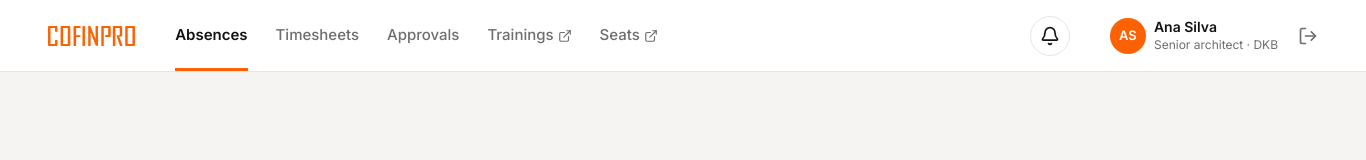
Scenario: AppHeader › says so when logging out fails, and stays
What coordinates should you click on to do the following:
click the button named "Log out"
I would click on:
 (1308, 36)
Its box is x1=1298 y1=26 x2=1318 y2=46.
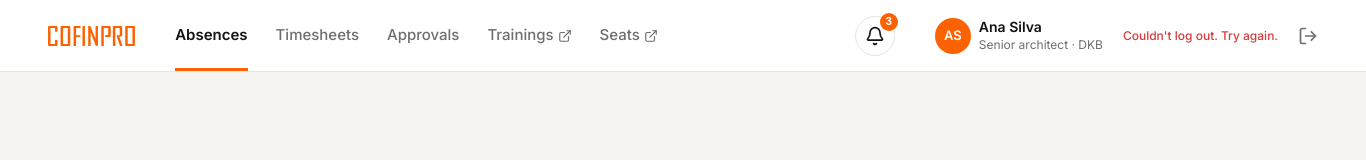
Check: the message "Couldn't log out. Try again." is shown, box x1=1123 y1=26 x2=1278 y2=44
